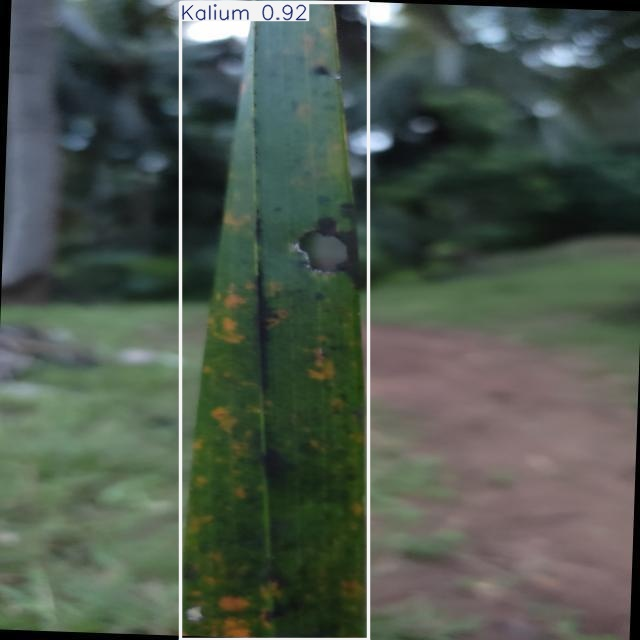Kalium: (181, 3, 368, 640)
